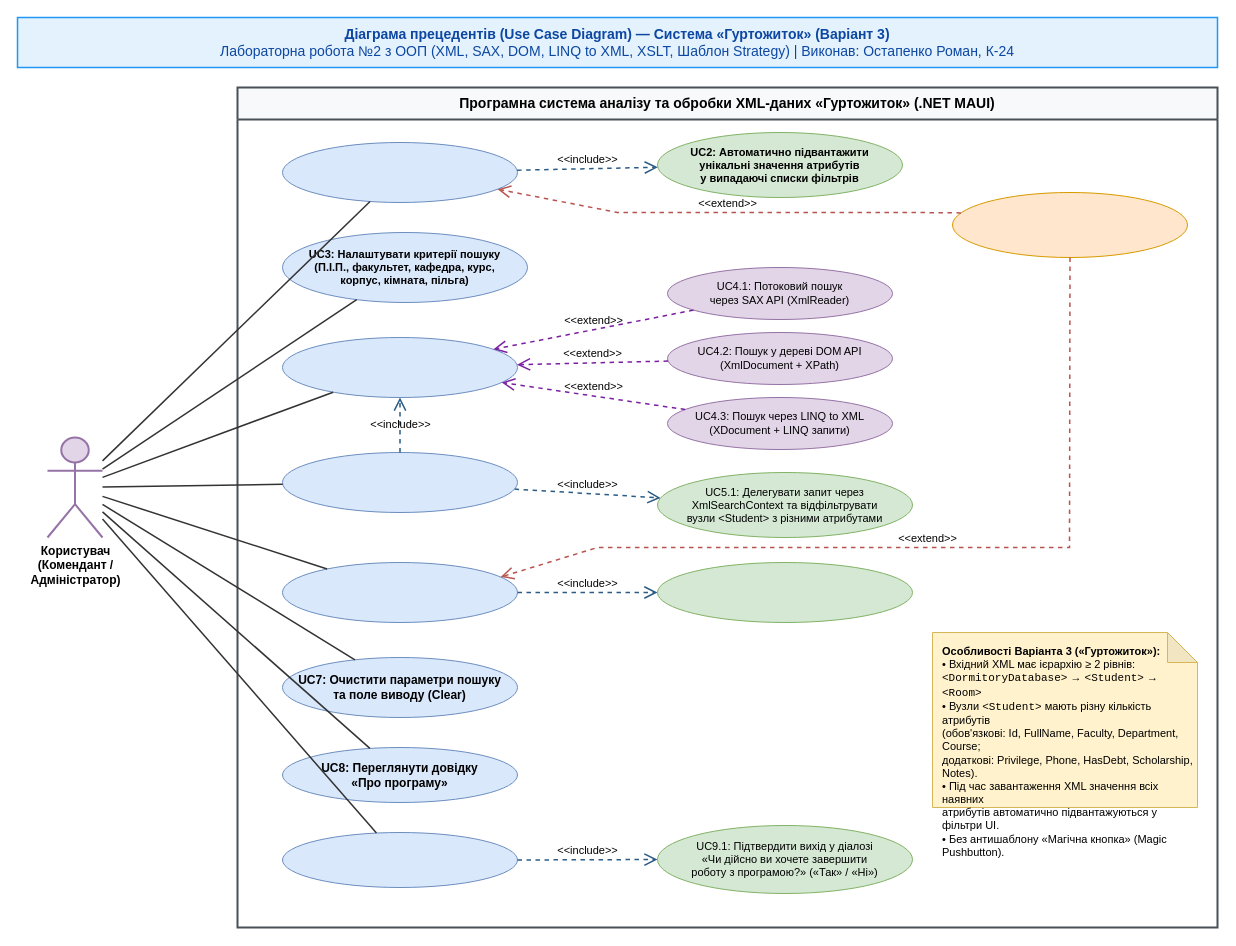
Image size: 1236x946. Some labels were removed from this diagram. The shapes that lost their labels are listed below. From the top down, each one's centre as x and y in pixels, then its label:
(x=400, y=172): UC1: Завантажити XML-файл бази даних гуртожитку
(x=1070, y=225): UC10: Локалізувати та показати повідомлення про помилку формату XML / XSL
(x=400, y=367): UC4: Обрати стратегію аналізу XML (Strategy)
(x=400, y=482): UC5: Виконати пошук студентів та переглянути результати
(x=400, y=592): UC6: Трансформувати XML у HTML-звіт за XSL-шаблоном
(x=784, y=592): UC6.1: Застосувати XslCompiledTransform та зберегти згенерований HTML-файл
(x=400, y=860): UC9: Завершити роботу з програмою (Вихід)
